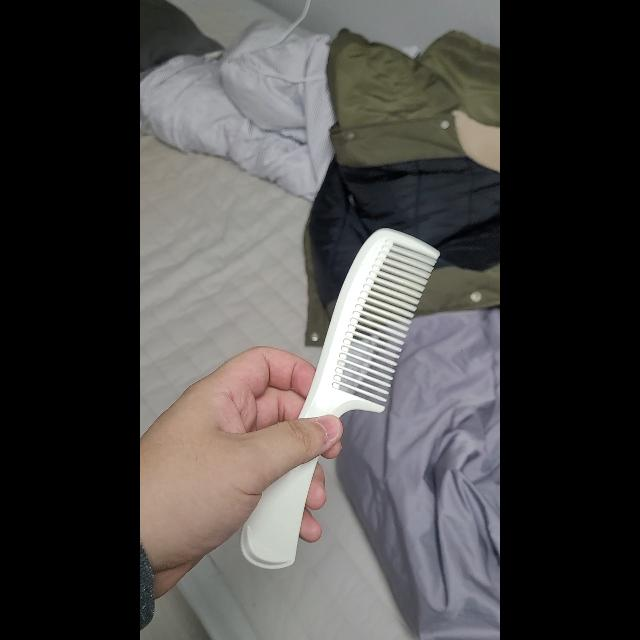COMB: (240, 228, 440, 570)
